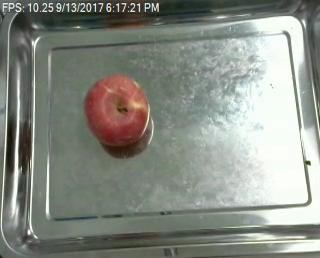apple: (85, 76, 151, 147)
